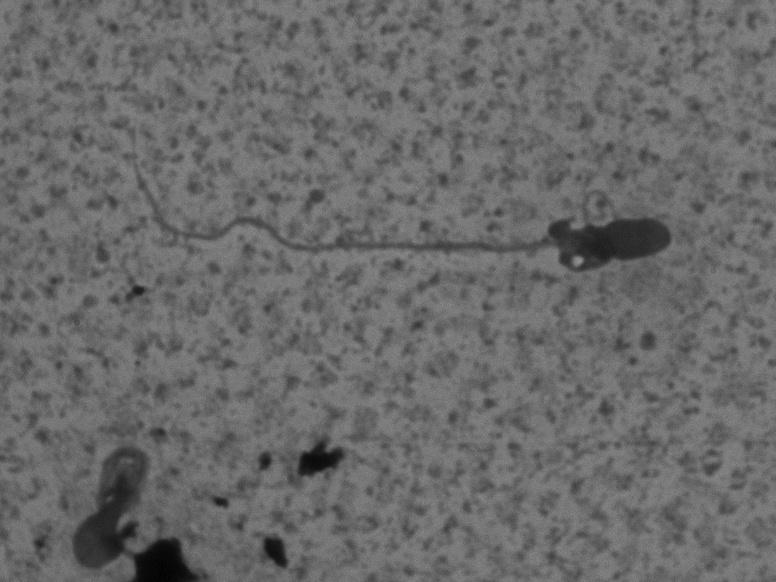Abnormal: (90, 156, 710, 292)
